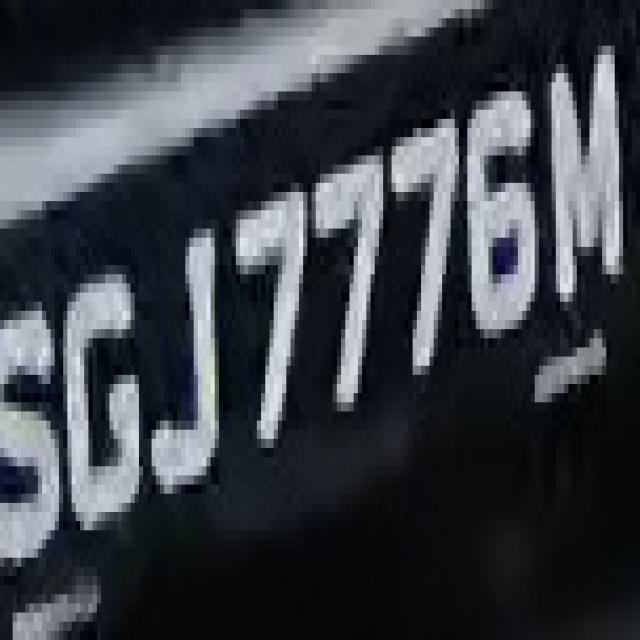6: (455, 64, 543, 375)
7: (299, 137, 387, 466), (383, 110, 459, 439), (236, 165, 316, 466)
G: (63, 220, 139, 548)
J: (147, 192, 236, 549)
M: (543, 19, 632, 338)
S: (17, 256, 63, 594)
